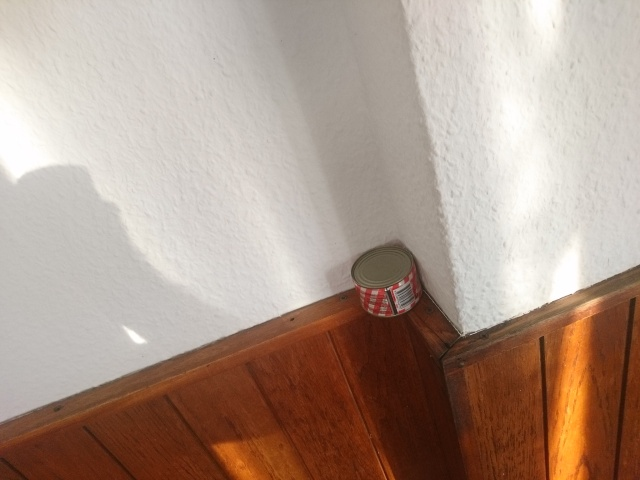Podravka Luncheon Meat 150g: (347, 242, 426, 321)
